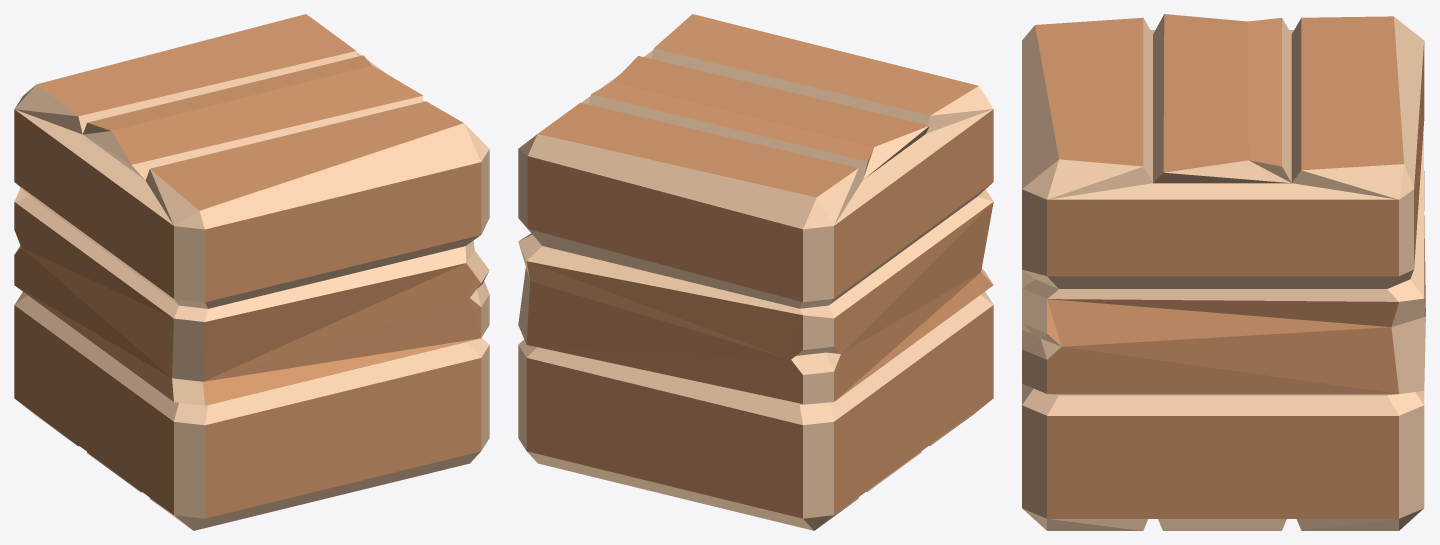
Rendered from chest.fbx.
3 renders of one model, left to right at view 1: azimuth 30°, elevation 25°; view 2: azimuth 150°, elevation 25°; view 3: azimuth 270°, elevation 25°, orthographic. The views are drawn at different scales.
Visible parts, largest first — view 1: Chest; view 2: Chest; view 3: Chest.
Part boxes in pixels (bbox=[...]): Chest: bbox=[14, 14, 489, 530]; Chest: bbox=[518, 14, 993, 530]; Chest: bbox=[1022, 14, 1425, 530].
Bounding box in the file's own units: 121 × 123 × 122.
